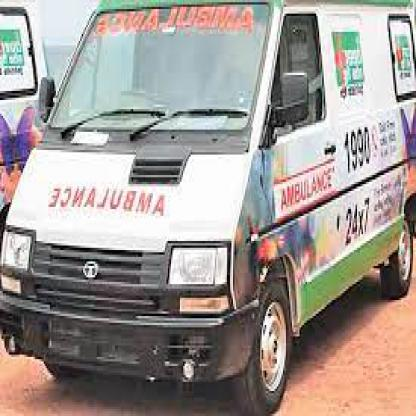van: (1, 2, 414, 414)
